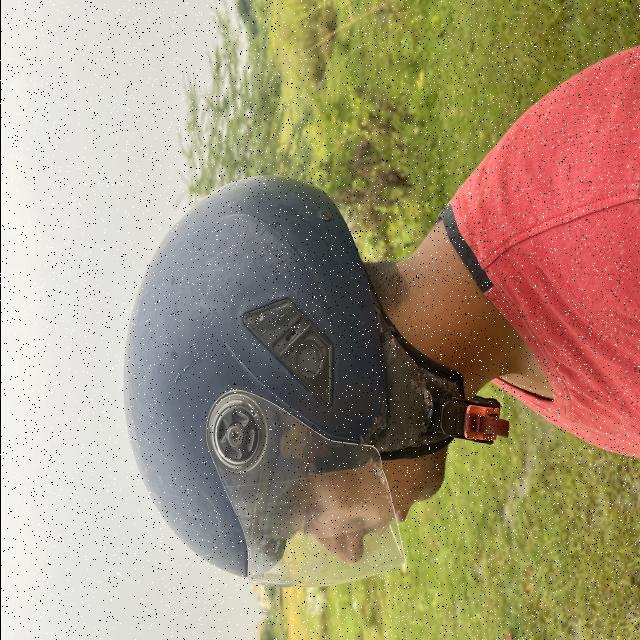Helmet: (124, 177, 461, 587)
